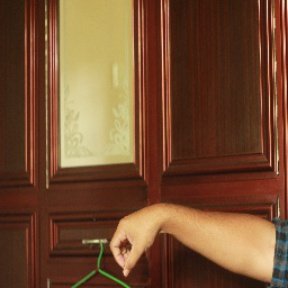O: (101, 208, 167, 276)
